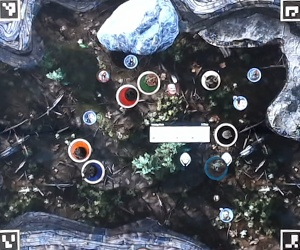black: (214, 125, 237, 148)
blue: (78, 162, 101, 185)
brown_turquoise: (206, 159, 229, 182)
green: (136, 68, 159, 91)
orange: (62, 140, 85, 163)
red: (115, 85, 138, 108)
white: (201, 68, 224, 91)
